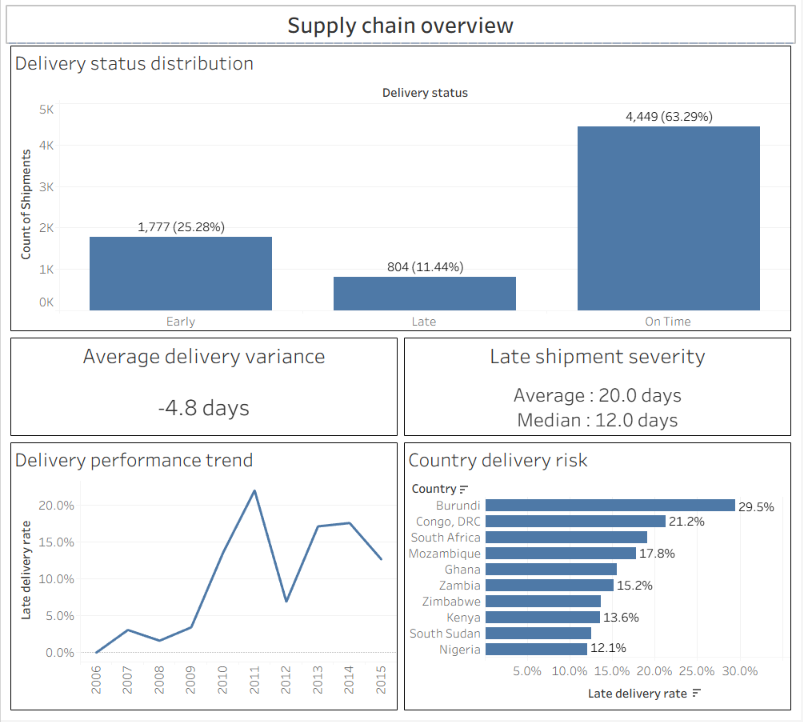

What the dashboard file says about the page in this screenshot:
{"tool":"tableau","page":{"name":"d1 - supply chain overview","canvas":[1000,900],"ordinal":2},"visuals":[{"type":"title","box":[8,8,984,45]},{"type":"worksheet","title":"Q1 - Delivery station distribution","mark":"Automatic","rows":["ASN/DN"],"cols":["Delivery status"],"box":[8,53,984,364.9]},{"type":"worksheet","title":"Average delivery variance","mark":"Automatic","box":[8,417.9,492,131.1]},{"type":"worksheet","title":"Late Shipment Severity","mark":"Automatic","box":[500,417.9,492,131.1]},{"type":"worksheet","title":"Q6- Delivery Performance Trend","mark":"Line","rows":["Calculation_234187215722569728"],"cols":["Scheduled delivery date"],"box":[8,549,492,343]},{"type":"worksheet","title":"Q 2- Country delivery risk","mark":"Automatic","rows":["Country"],"cols":["Calculation_234187215722569728"],"box":[500,549,492,343]}]}

Visuals, with their boxes in screenshot pixels (x1, y1, x2, y2), scaled from the page's 1000x900 canvas onto the 803x722 screenshot:
title: [x1=6, y1=6, x2=797, y2=43]
"Q1 - Delivery station distribution" worksheet: [x1=6, y1=43, x2=797, y2=335]
"Average delivery variance" worksheet: [x1=6, y1=335, x2=402, y2=440]
"Late Shipment Severity" worksheet: [x1=402, y1=335, x2=797, y2=440]
"Q6- Delivery Performance Trend" worksheet (Line marks): [x1=6, y1=440, x2=402, y2=716]
"Q 2- Country delivery risk" worksheet: [x1=402, y1=440, x2=797, y2=716]
